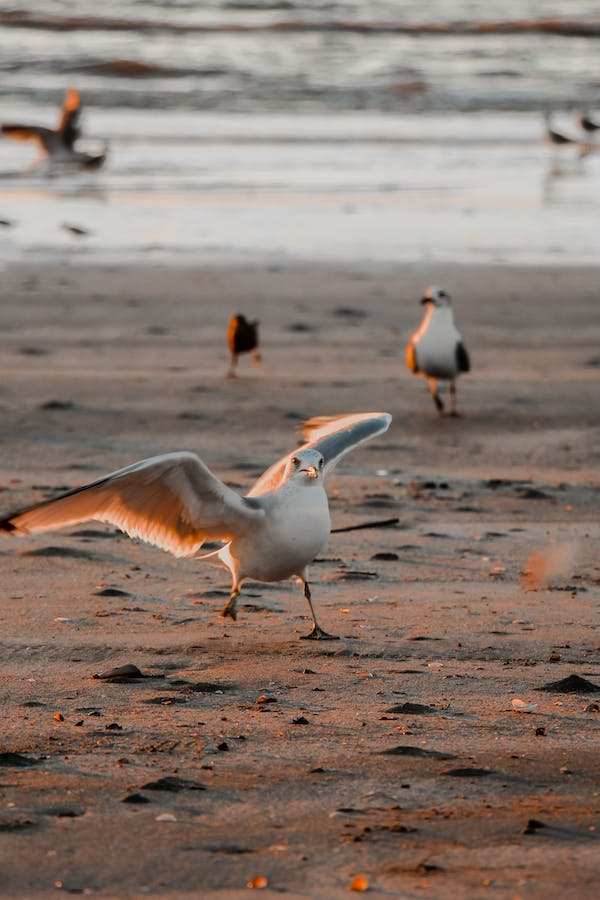Walking: (15, 385, 404, 676), (408, 217, 478, 430)
